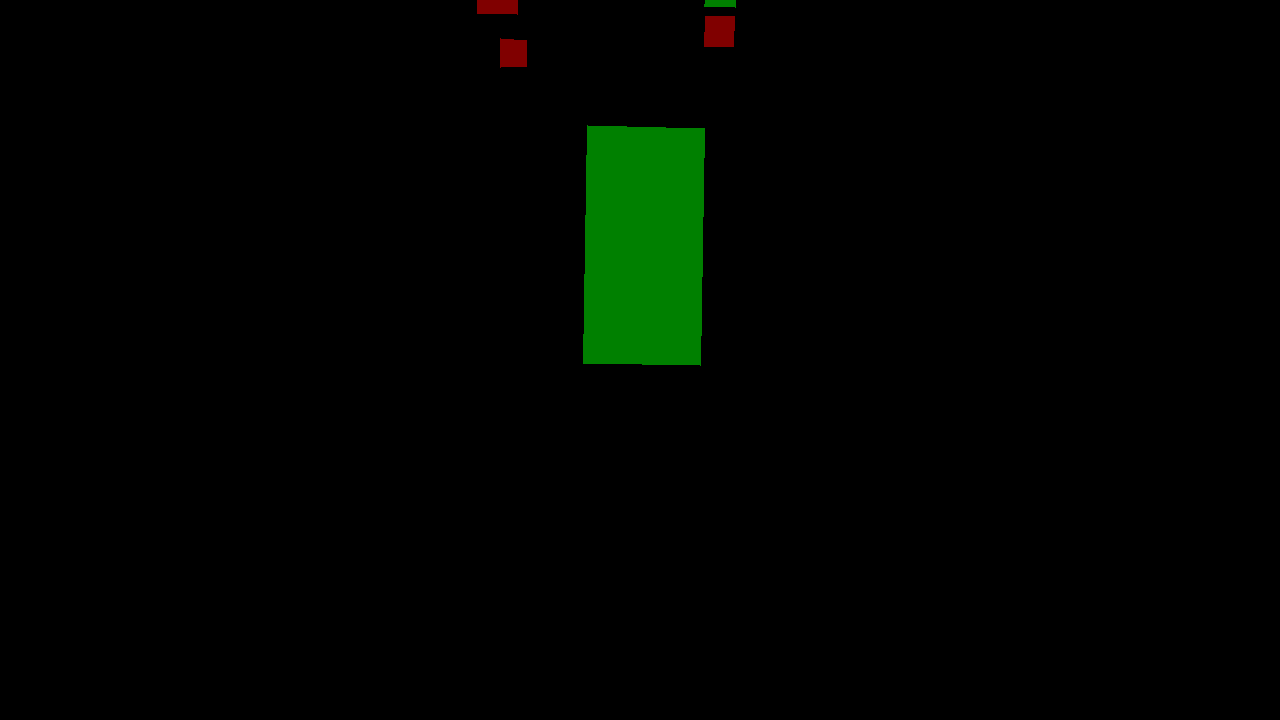door: (583, 125, 704, 365)
sign: (704, 16, 734, 46), (500, 38, 526, 67), (477, 0, 517, 14), (704, 0, 735, 7)
